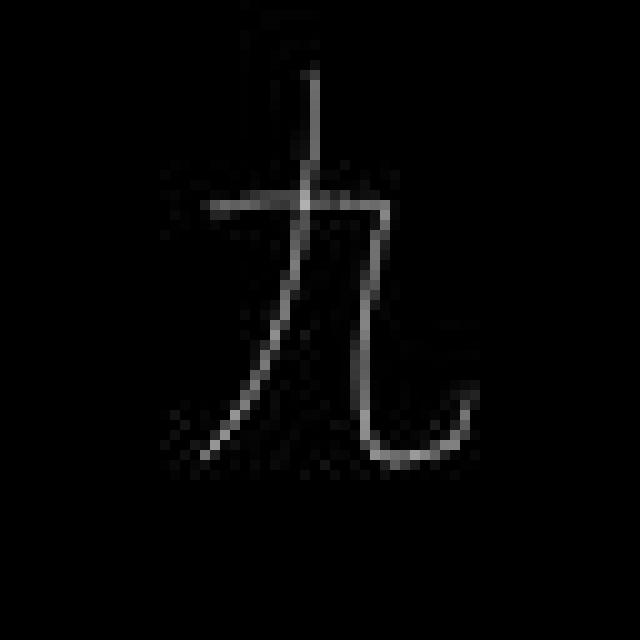9 -nine-: (184, 66, 483, 472)
